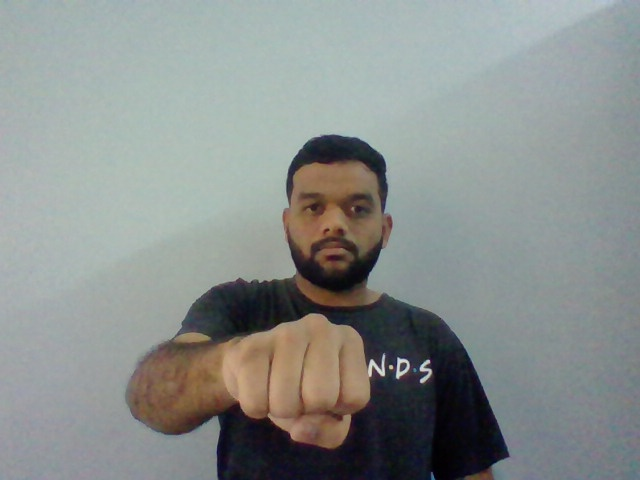Yes: (236, 312, 372, 450)
